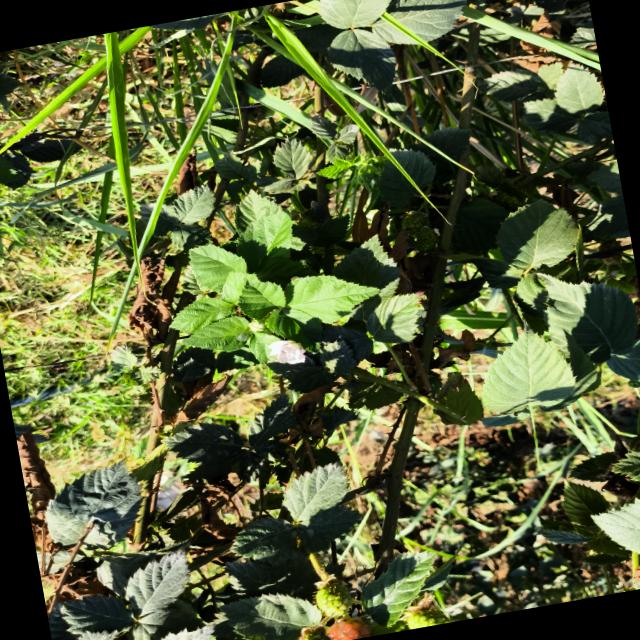boton: (248, 320, 264, 332), (236, 332, 249, 341)
flor: (270, 340, 305, 364)
